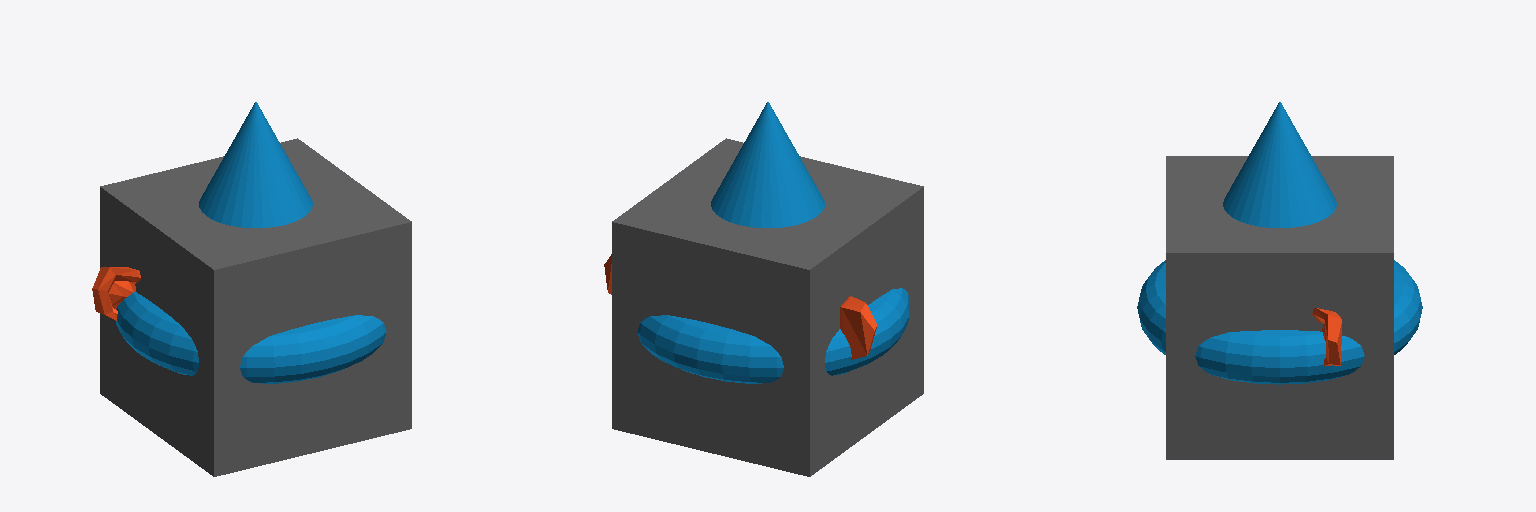
The picture shows the model from 3 angles: view 1: azimuth 30°, elevation 25°; view 2: azimuth 150°, elevation 25°; view 3: azimuth 270°, elevation 25°; orthographic projection.
Parts seen in each view (by area): view 1: CubeFlat_Cube, Torus, Cone, Monkey_Suzanne; view 2: CubeFlat_Cube, Torus, Cone, Monkey_Suzanne; view 3: CubeFlat_Cube, Torus, Cone, Monkey_Suzanne.
Part boxes in pixels (bbox=[...]): CubeFlat_Cube: bbox=[100, 138, 411, 476]; Torus: bbox=[115, 292, 386, 383]; Cone: bbox=[199, 102, 312, 227]; Monkey_Suzanne: bbox=[92, 267, 140, 320]; CubeFlat_Cube: bbox=[612, 138, 923, 476]; Torus: bbox=[637, 288, 909, 383]; Cone: bbox=[711, 102, 824, 227]; Monkey_Suzanne: bbox=[604, 254, 876, 359]; CubeFlat_Cube: bbox=[1166, 156, 1393, 459]; Torus: bbox=[1137, 260, 1422, 384]; Cone: bbox=[1223, 102, 1336, 227]; Monkey_Suzanne: bbox=[1312, 308, 1341, 365].
Size of the model in its own units: 2.73 by 3 by 2.5.